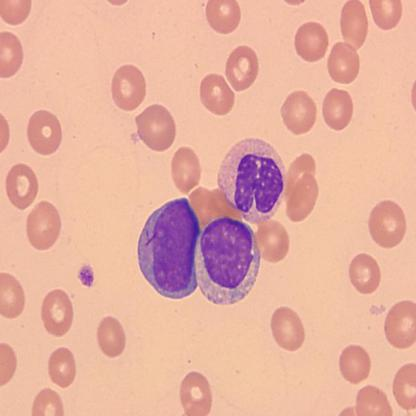Promyelocyte: (135, 196, 199, 299)
